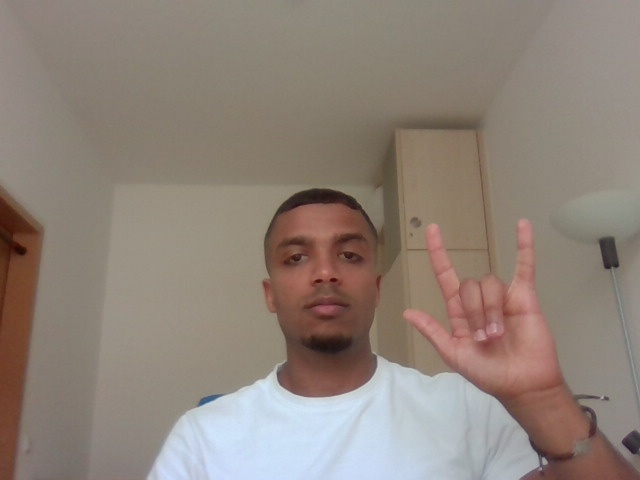absolutely: (398, 213, 586, 406)
